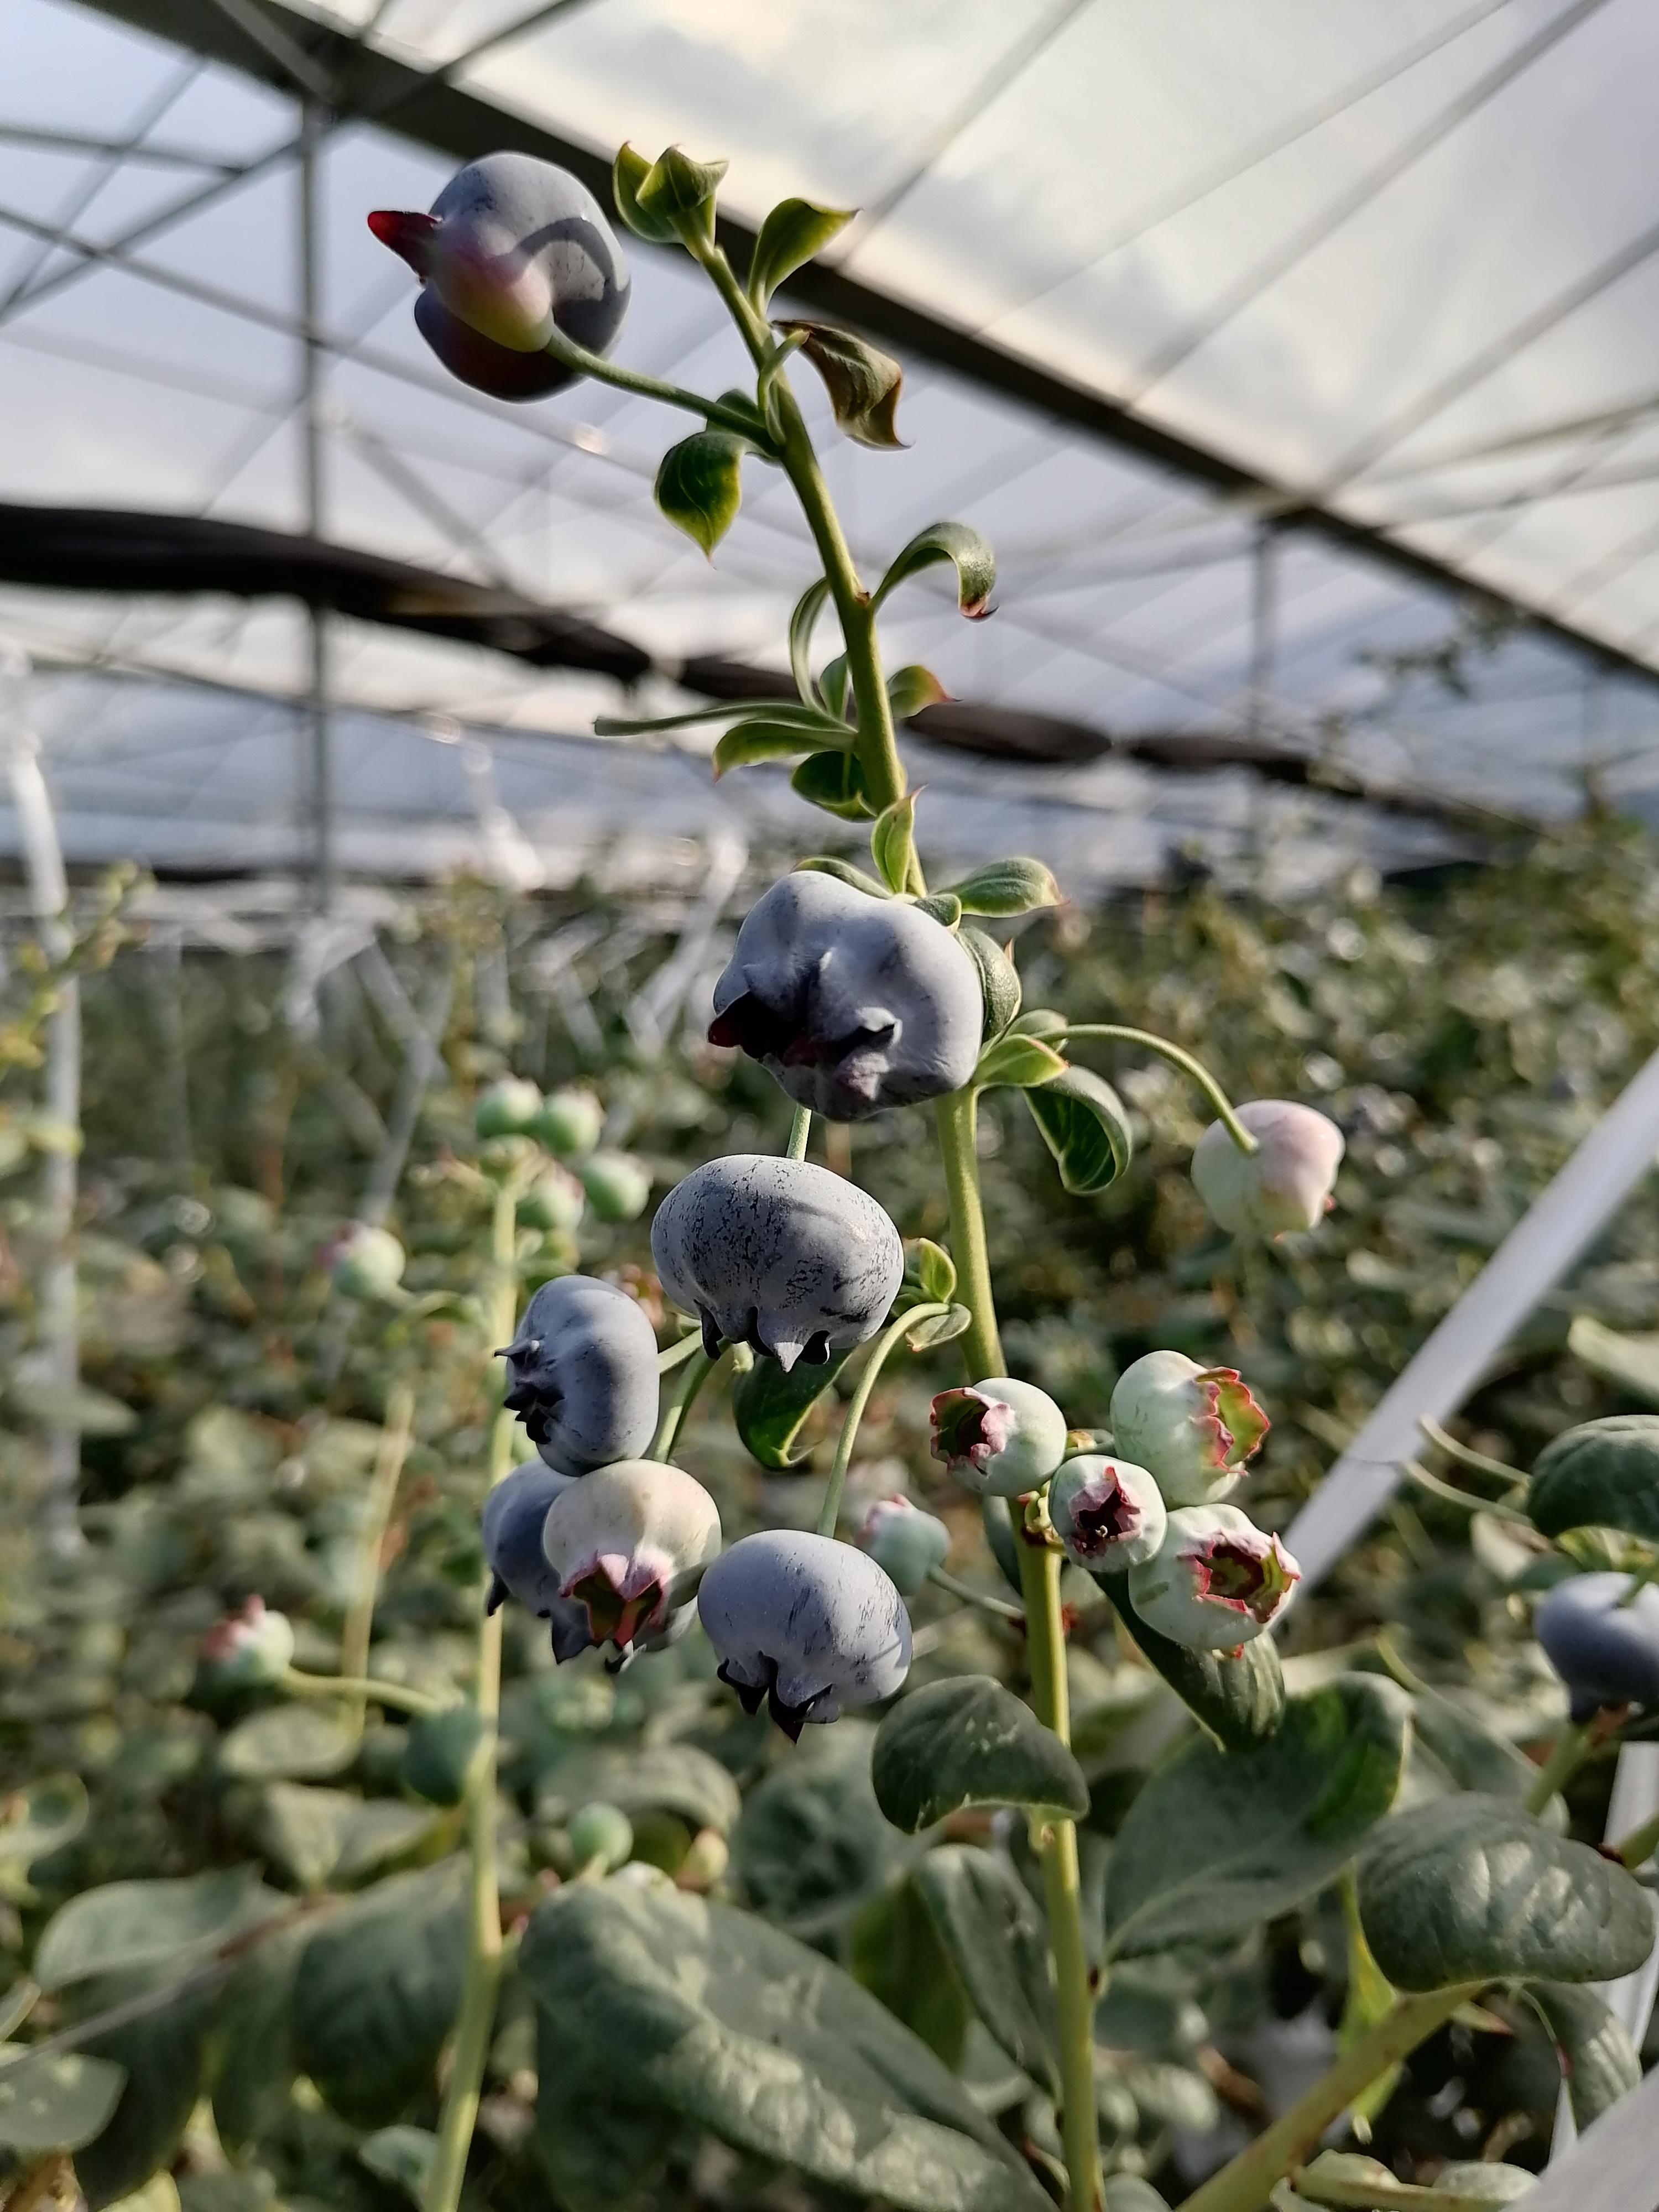ripe-blueberries: (706, 869, 990, 1125), (375, 152, 631, 402), (648, 1153, 906, 1376), (697, 1527, 915, 1743), (497, 1271, 662, 1477), (477, 1458, 592, 1672), (1532, 1571, 1657, 1724)
